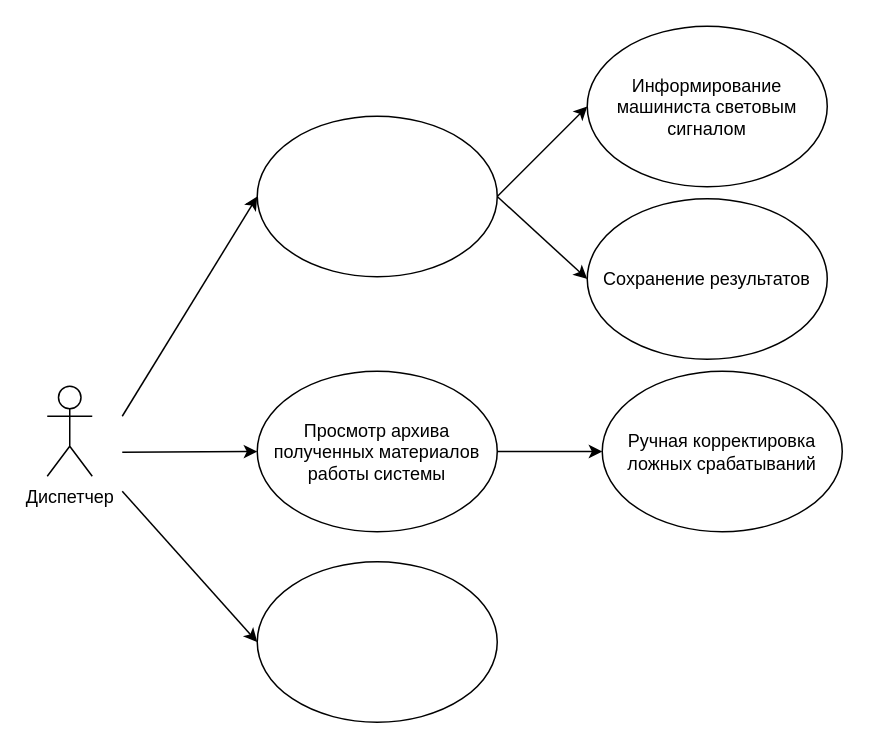
Some shapes in this 869 by 749 pixel diagram are drawn without their labels. Each missing label, with the box of its shape:
Автоматическая детекция постаронних объектов в материалах: (256, 115, 497, 277)
Настройка системы детекции постаронних предметов: (256, 560, 497, 722)
